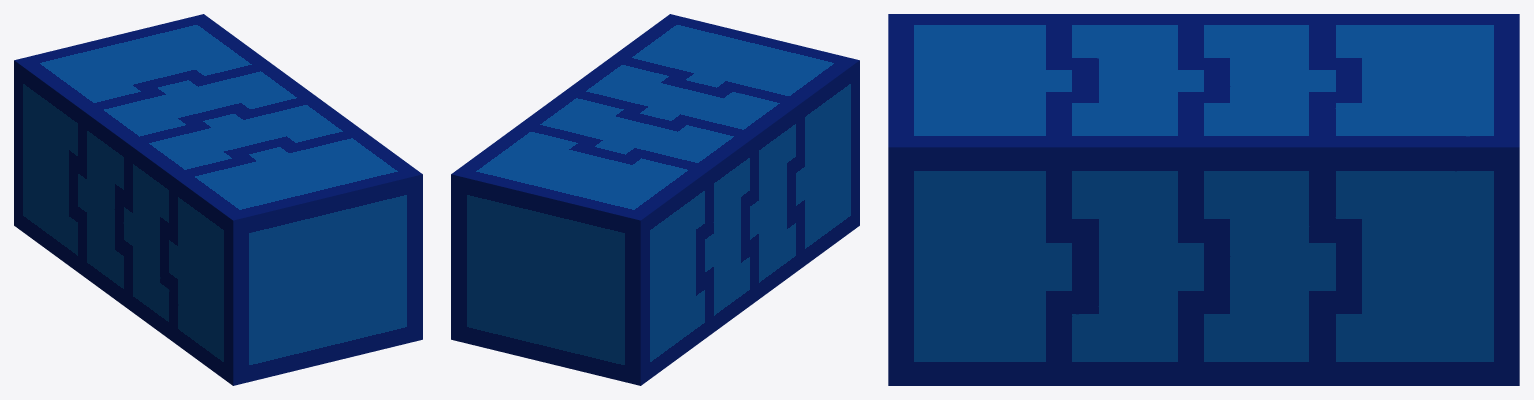
File: container.fbx
3 renders of one model, left to right at view 1: azimuth 30°, elevation 25°; view 2: azimuth 150°, elevation 25°; view 3: azimuth 270°, elevation 25°, orthographic. The views are drawn at different scales.
Parts seen in each view (by area): view 1: group; view 2: group; view 3: group.
Part boxes in pixels (x1,y1,x2,y2): group: [14, 14, 422, 385]; group: [451, 14, 859, 385]; group: [888, 14, 1519, 385].
Bounding box in the file's own units: 37.5 × 31.25 × 75.
1 material, 1 textured.
